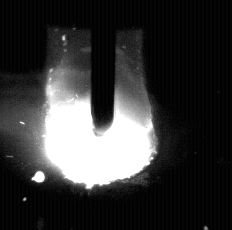arame: (92, 0, 115, 137)
poca: (44, 0, 158, 230)
